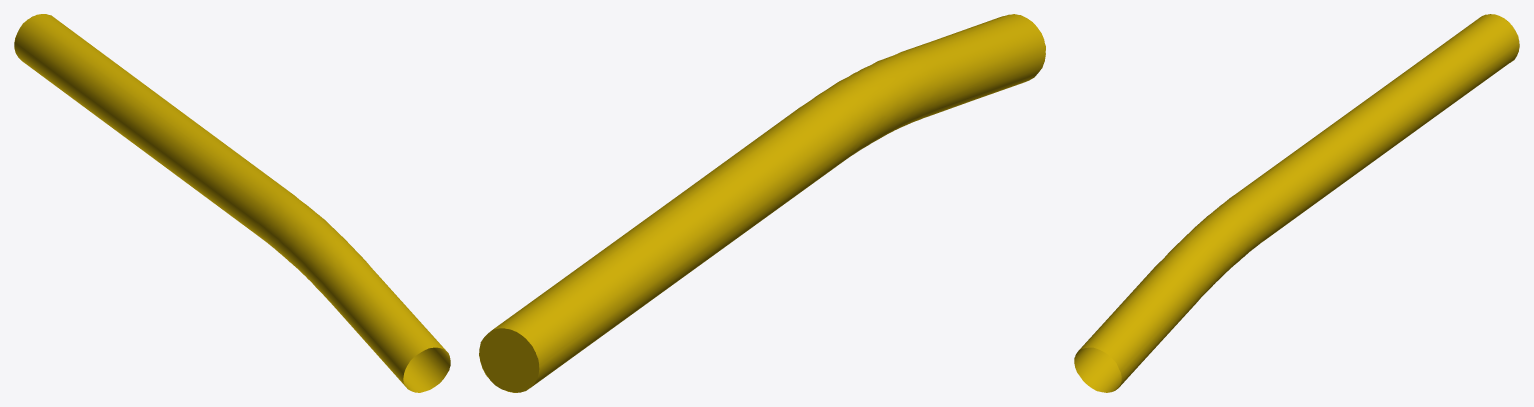
The model's file is original_10.obj.
The picture shows the model from 3 angles, left to right: view 1: azimuth 30°, elevation 25°; view 2: azimuth 150°, elevation 25°; view 3: azimuth 330°, elevation 25°; orthographic projection. The views are drawn at different scales.
Visible parts, largest first — view 1: #ID67; view 2: #ID67; view 3: #ID67.
Boxes of the visible parts, x1,y1,x2,y2 form: #ID67: (14, 14, 450, 392); #ID67: (479, 14, 1045, 392); #ID67: (1074, 14, 1519, 392).
Size of the model in its own units: 0.0244 by 0.0421 by 0.3299.
